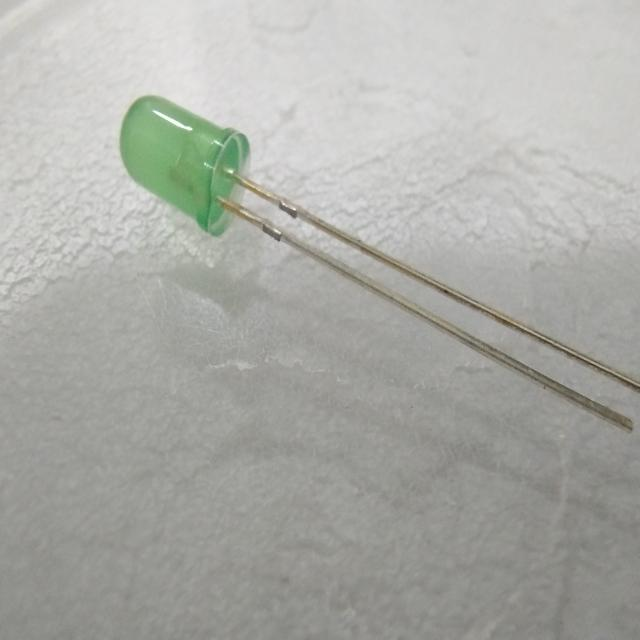green_led: (110, 83, 258, 248)
